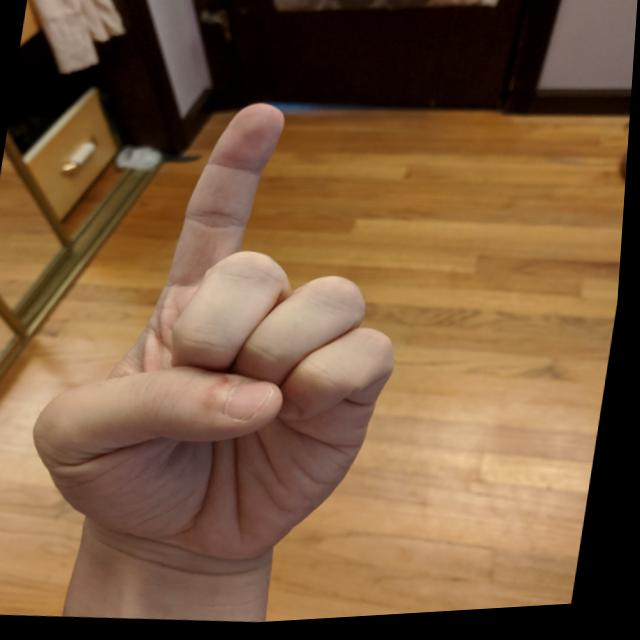D: (10, 74, 448, 594)
